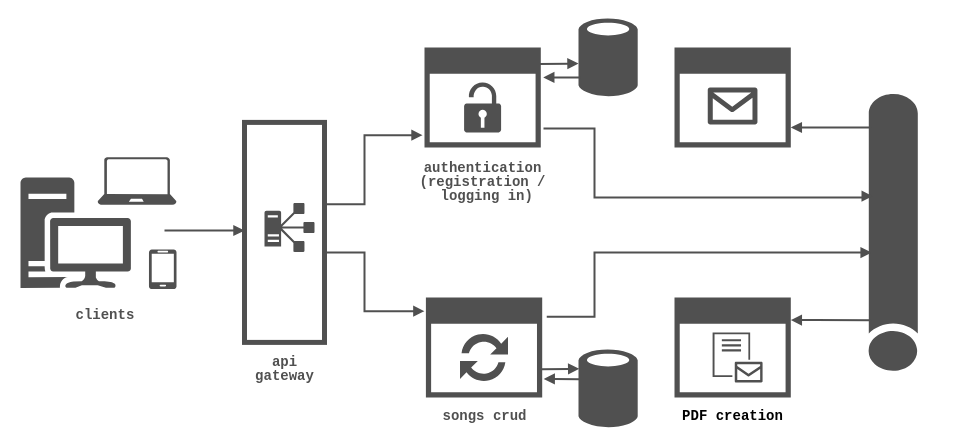
This 968x446 diagram has some shape labels left out. Each missing label, with the box of its shape:
mailing service: (674, 47, 790, 147)
mesaging broker: (868, 94, 917, 370)
